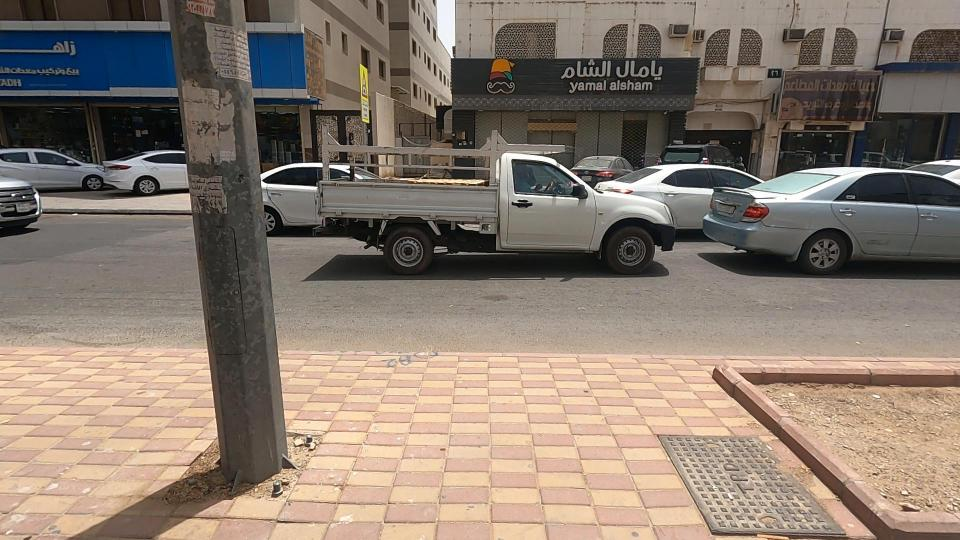BAD_BILLBOARD: (716, 37, 936, 149)
